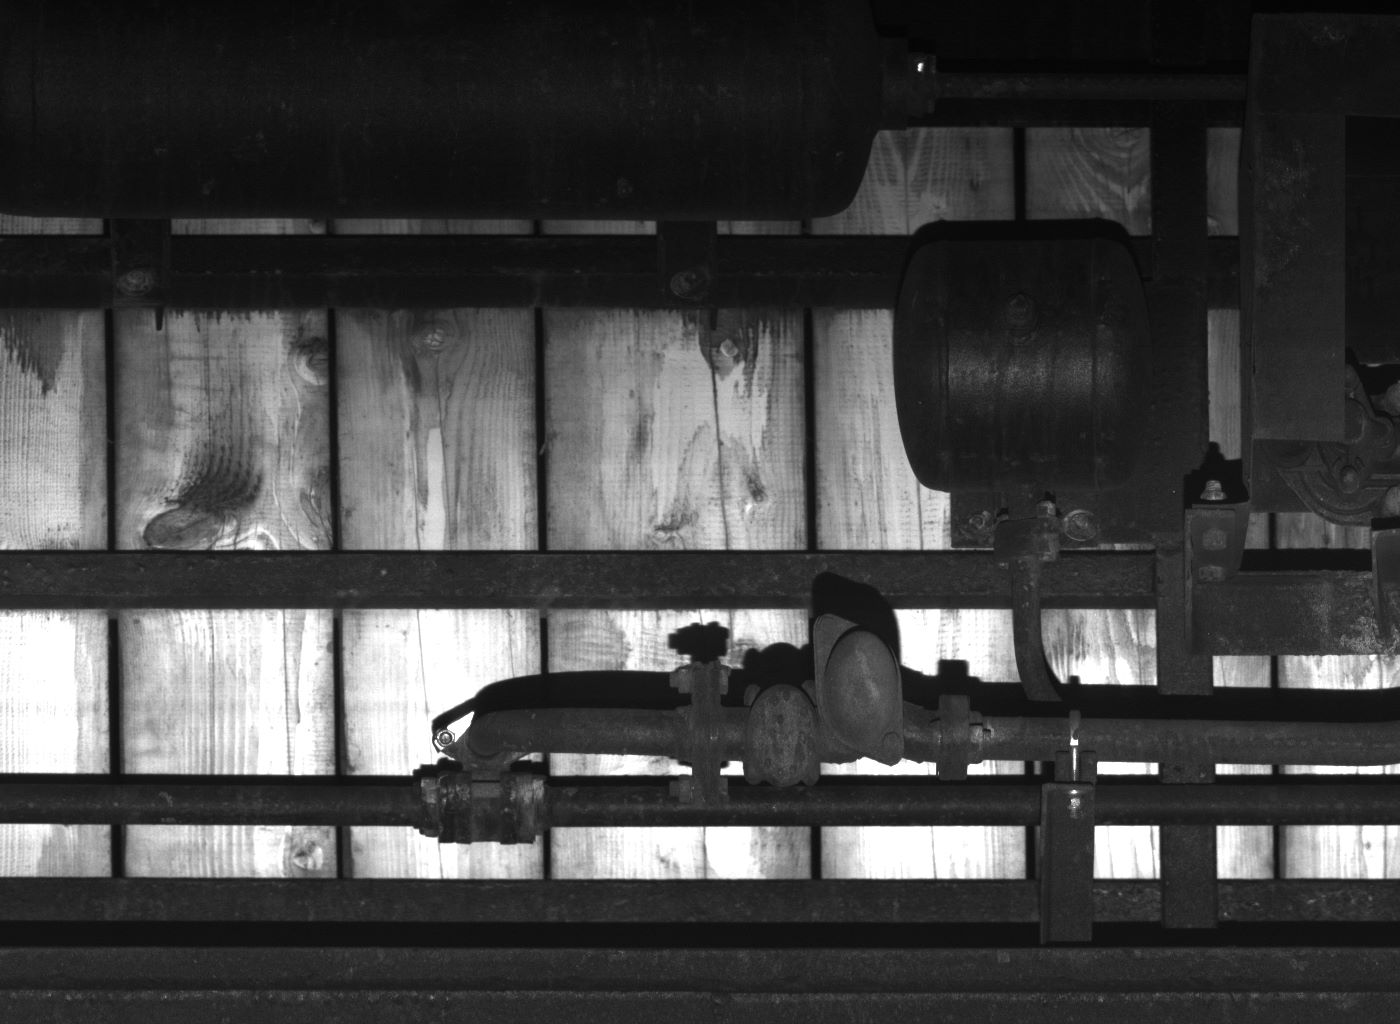normal: (742, 676, 821, 787)
